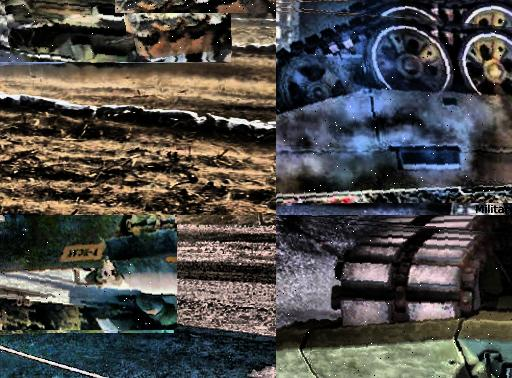tanks: (277, 13, 512, 204), (277, 223, 512, 378), (1, 216, 177, 331), (1, 1, 231, 63)
